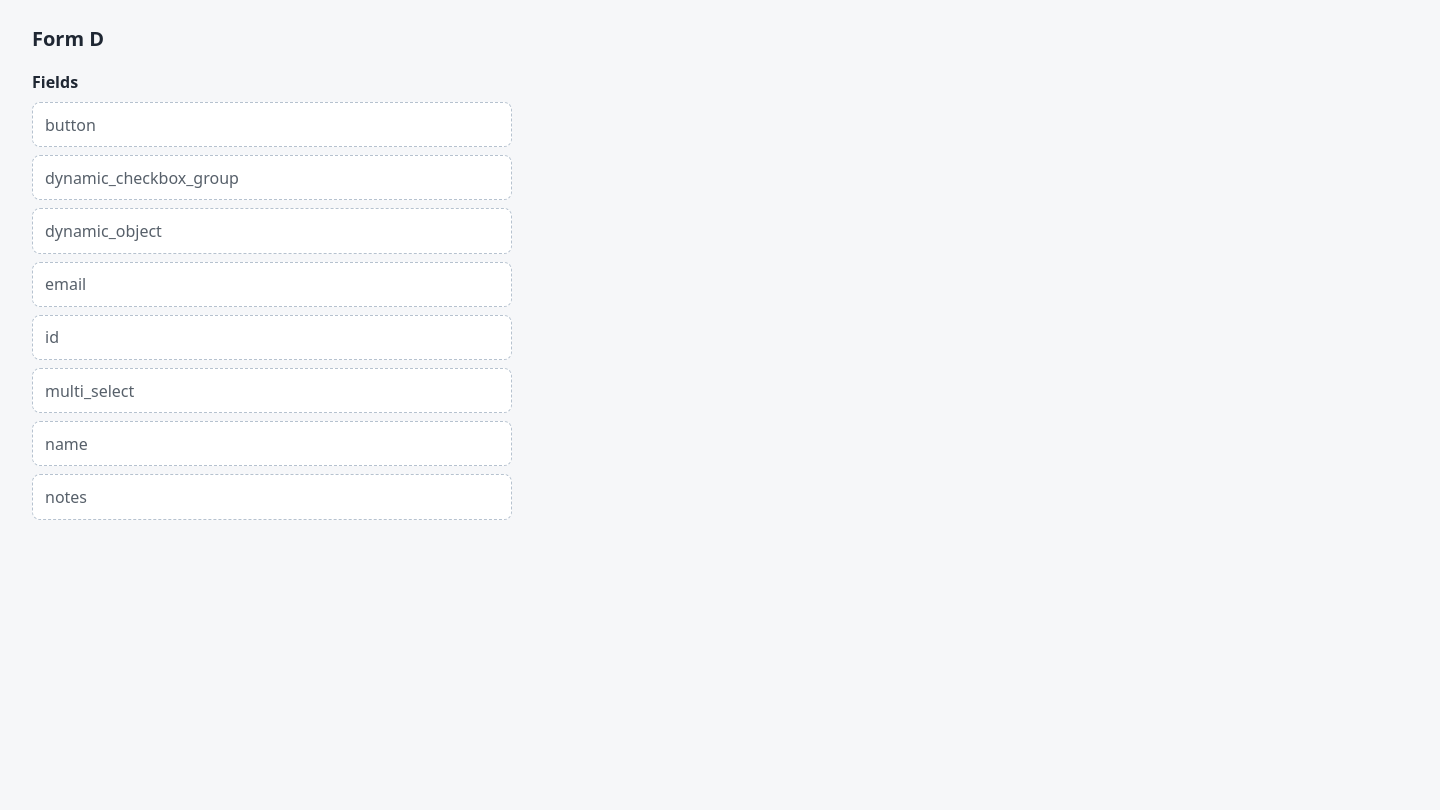
Test case: PrefillPanel › opens data element modal when unmapped field button is clicked
Click the button with aria-label "Map email".
click(66, 284)  # box [32, 262, 512, 307]
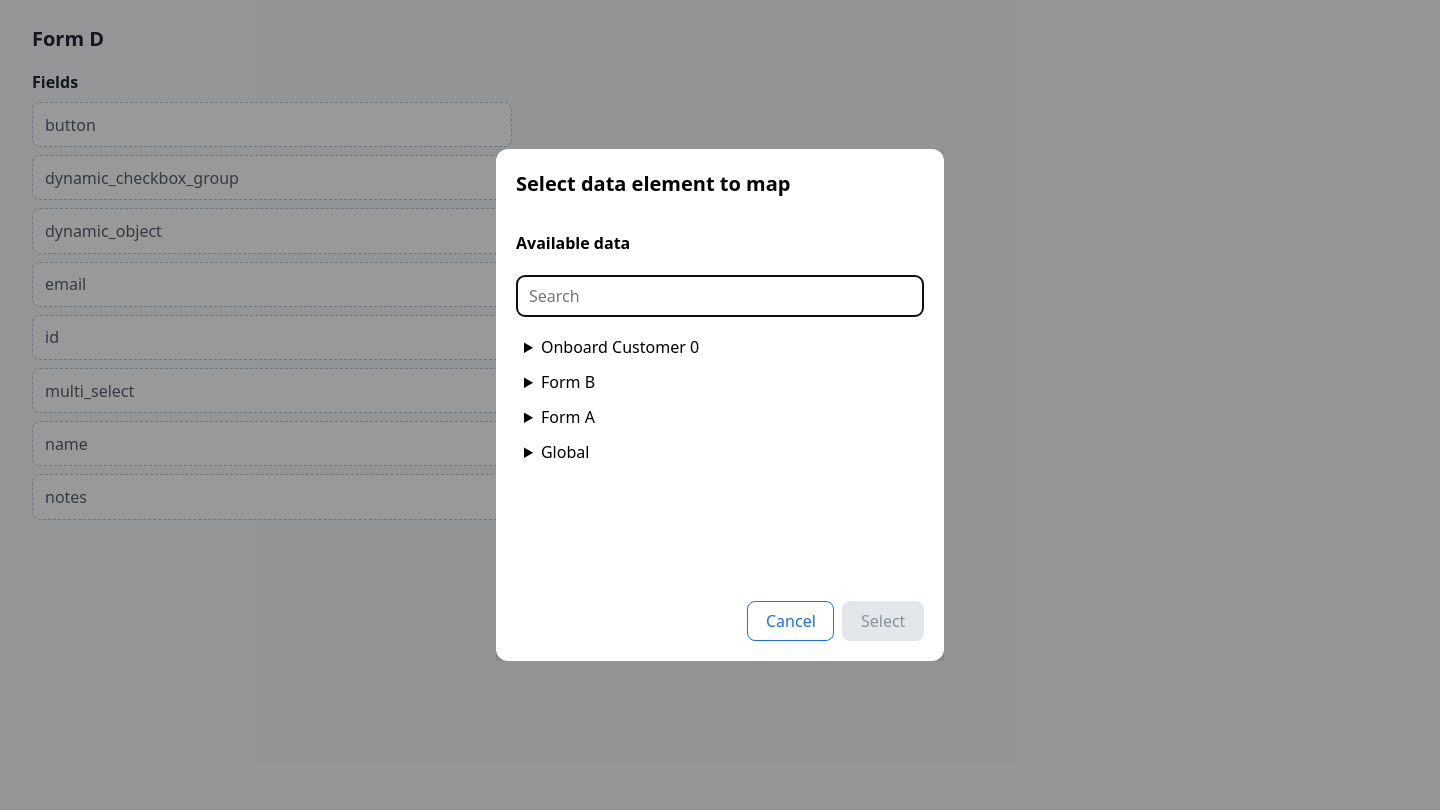
Check: the dialog "Select data element to map" is shown, box [496, 149, 944, 661]
